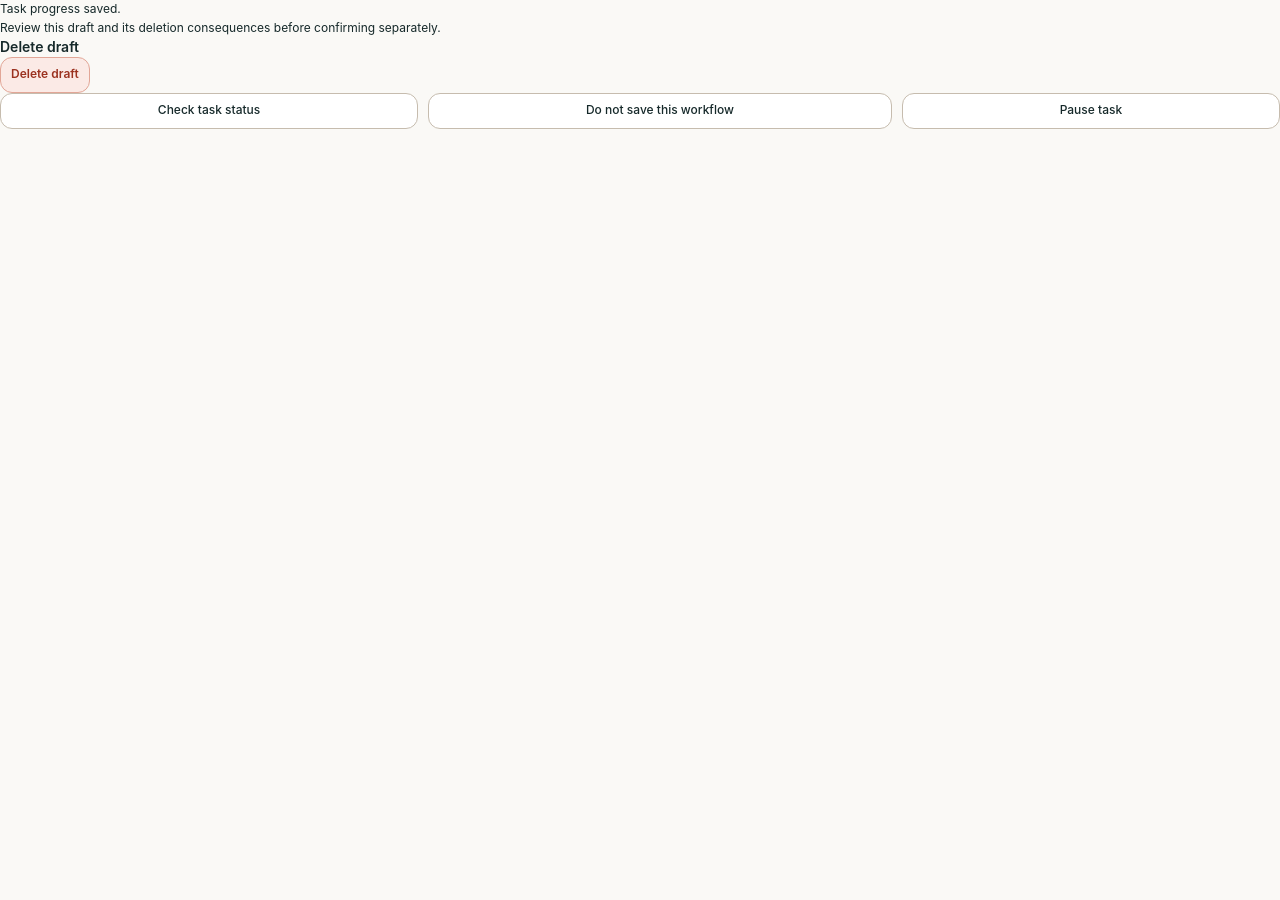
Test: keeps an ambiguous failed deletion pending and offers a status check without claiming the draft survived
Later steps or results of the test are not shown.
Click the button "Delete draft".
click(45, 75)  # box left=0, top=57, right=90, bottom=93
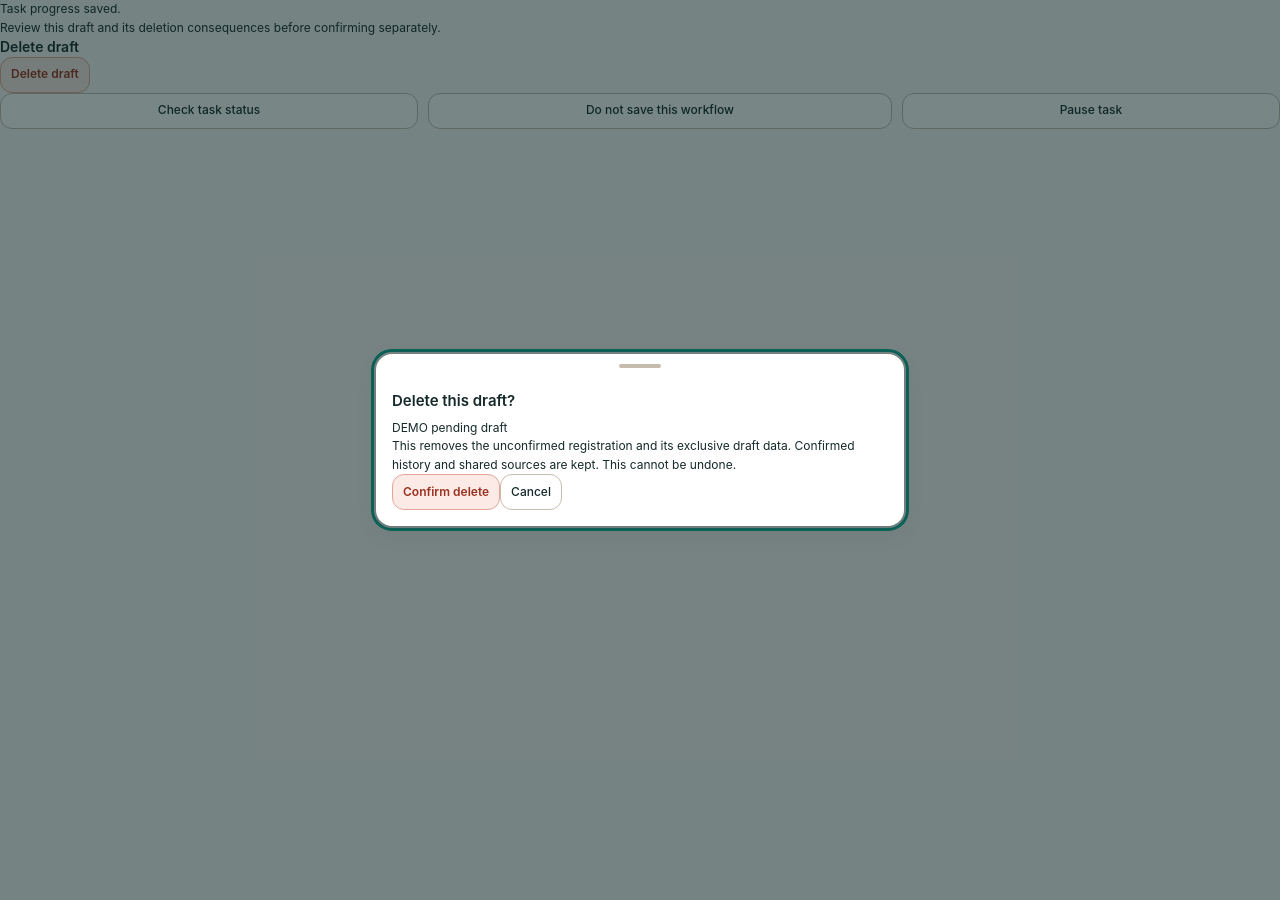
Click the button "Confirm delete".
click(446, 492)  # box left=392, top=474, right=500, bottom=510
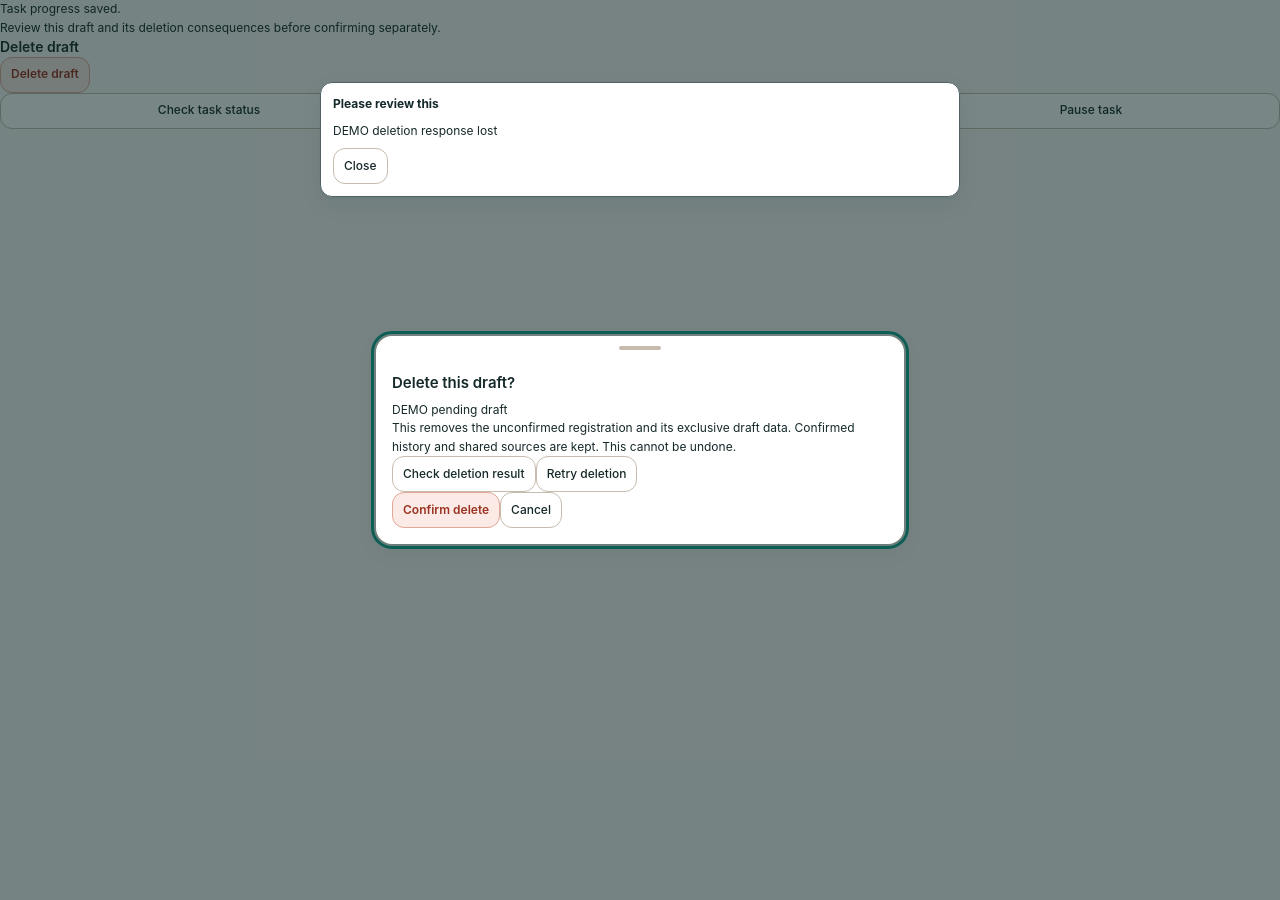
expect the text "DEMO deletion response lost" is shown: met, box left=333, top=123, right=497, bottom=138
